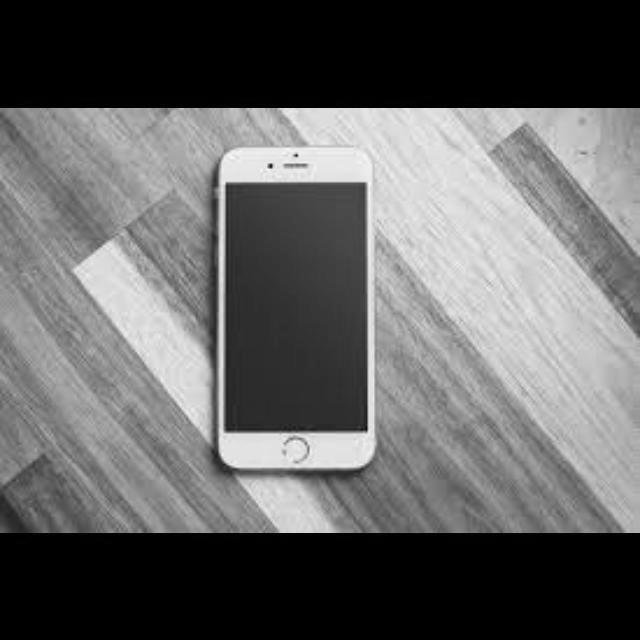fake: (216, 162, 375, 474)
